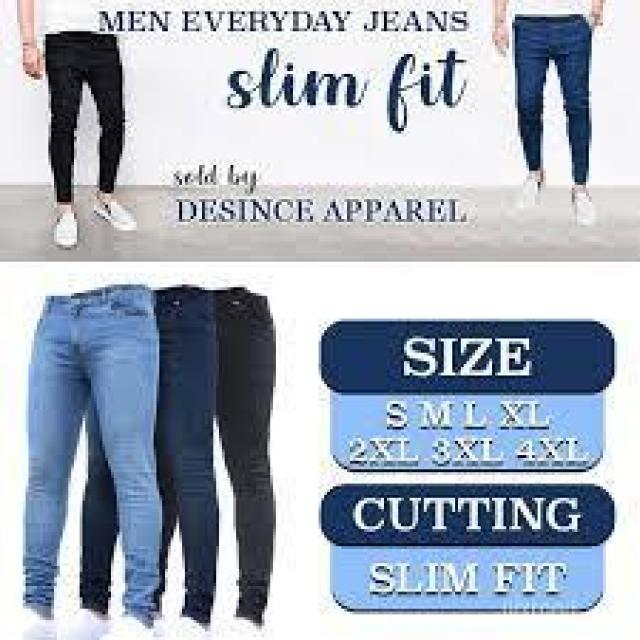pants: (20, 289, 176, 627), (131, 281, 236, 640), (199, 270, 299, 640), (495, 13, 606, 186), (30, 37, 149, 193)
